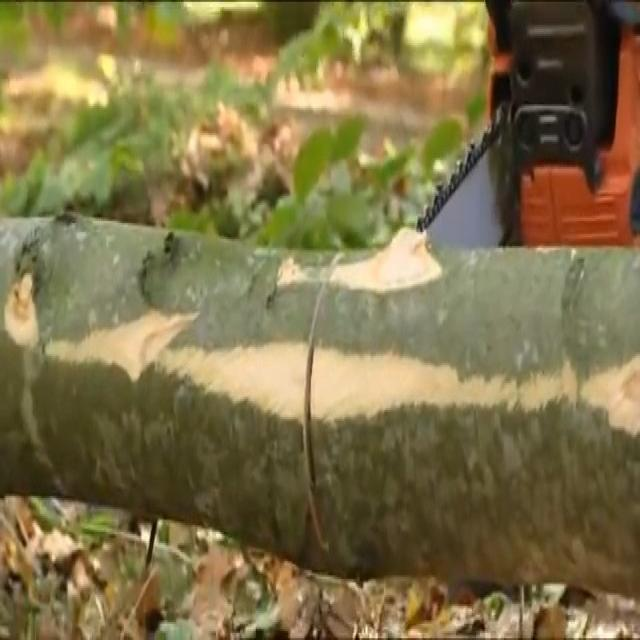Chainsaw: (362, 0, 640, 286)
